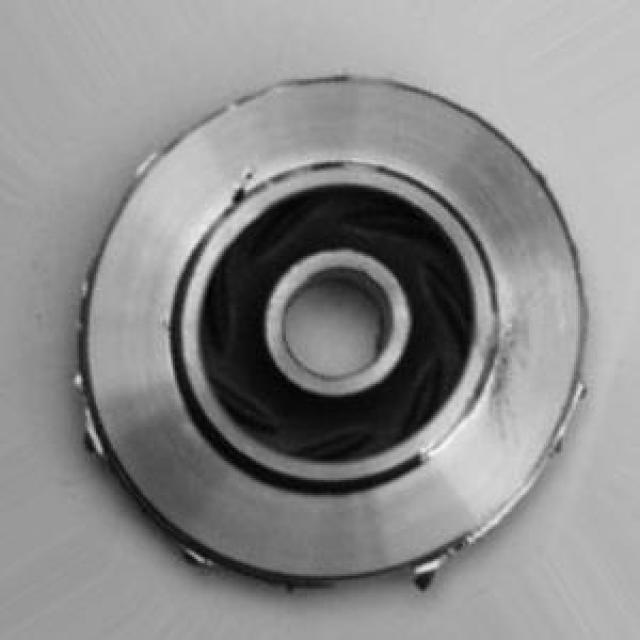Defect: (403, 547, 455, 595)
